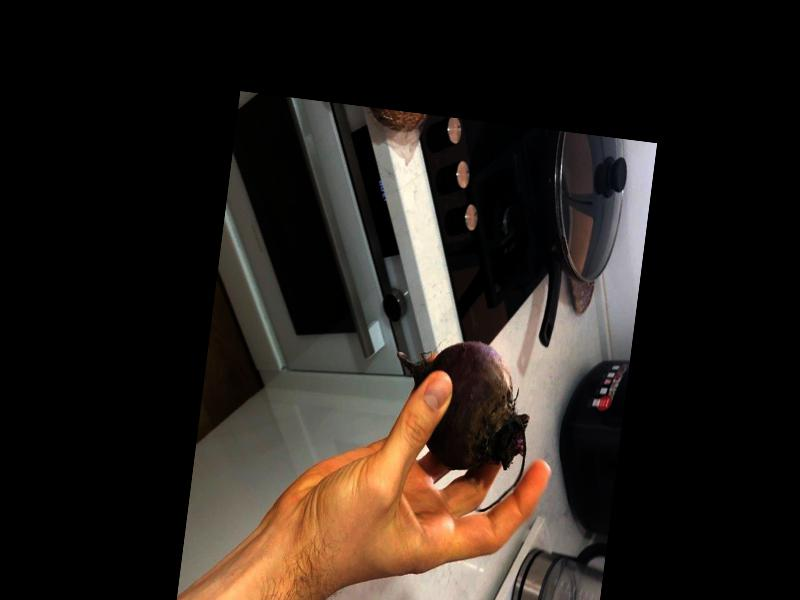Beet: (379, 332, 538, 514)
